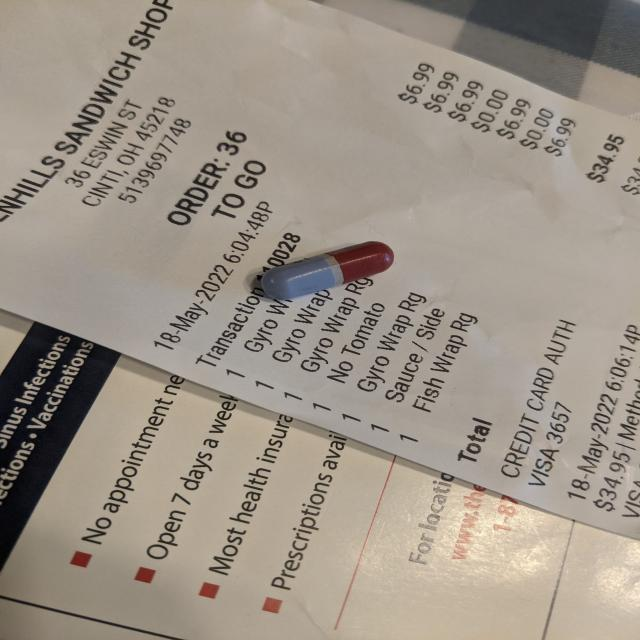non-organic waste: (260, 240, 397, 302)
